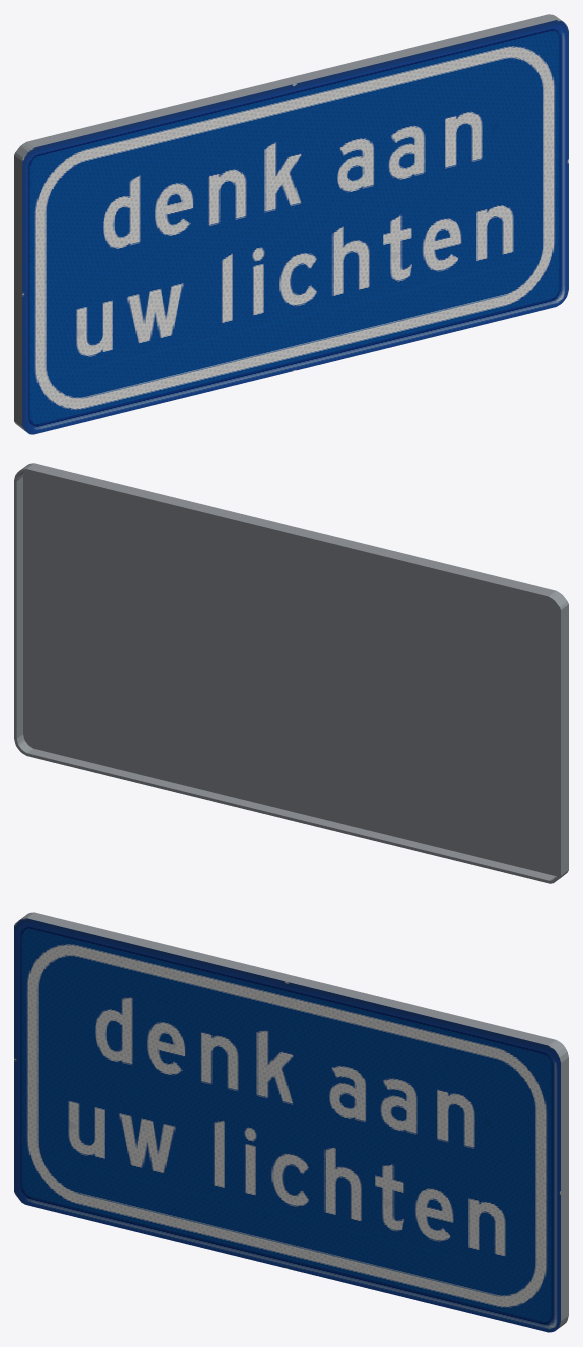
The picture shows the model from 3 angles, top to bottom: view 1: azimuth 30°, elevation 25°; view 2: azimuth 150°, elevation 25°; view 3: azimuth 330°, elevation 25°; orthographic projection.
Parts seen in each view (by area): view 1: cat_e9b8121a68e259e3; view 2: cat_e9b8121a68e259e3; view 3: cat_e9b8121a68e259e3.
Boxes of the visible parts, x1=… form: cat_e9b8121a68e259e3: x1=14, y1=14, x2=568, y2=434; cat_e9b8121a68e259e3: x1=14, y1=463, x2=568, y2=883; cat_e9b8121a68e259e3: x1=14, y1=912, x2=568, y2=1332.
Bounding box in the file's own units: 0.6 × 0.015 × 0.3007.
Materials: 2 (1 with a texture image).
